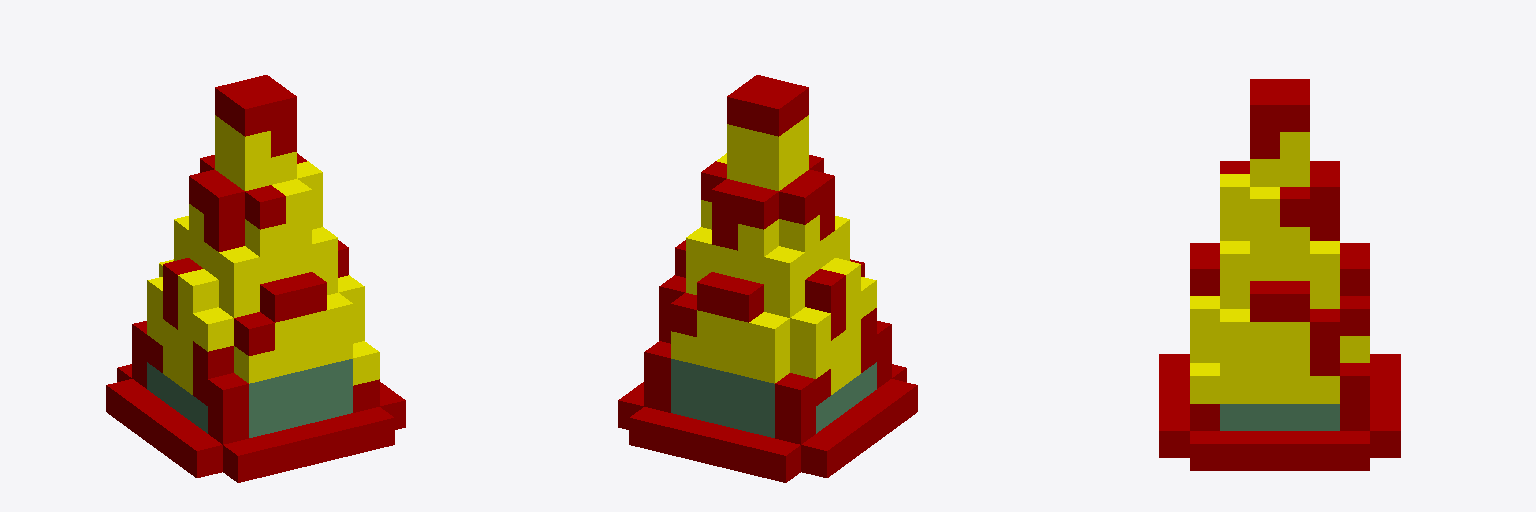
3 views of the same model, side by side, from view 1: azimuth 30°, elevation 25°; view 2: azimuth 150°, elevation 25°; view 3: azimuth 270°, elevation 25° (orthographic).
Size of the model in its own units: 8 by 12 by 8.
Materials: 1 (1 with a texture image).